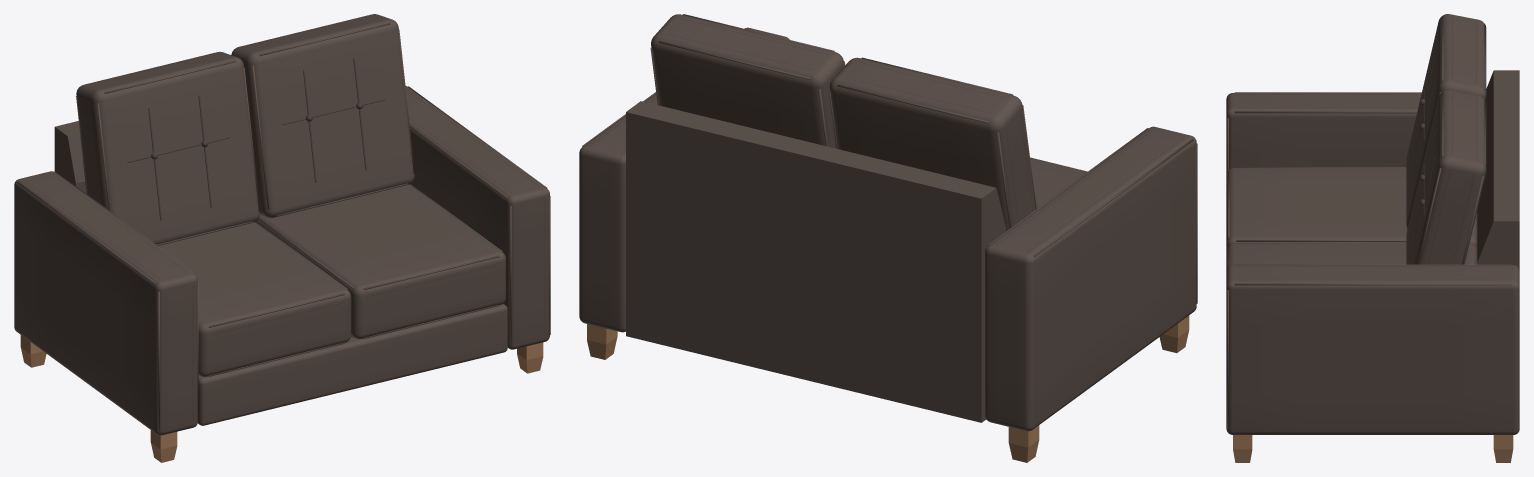
Rendered from benza_140x90.glb.
The picture shows the model from 3 angles, left to right: view 1: azimuth 30°, elevation 25°; view 2: azimuth 150°, elevation 25°; view 3: azimuth 270°, elevation 25°; orthographic projection. The views are drawn at different scales.
Visible parts, largest first — view 1: p1, p2, p0; view 2: p1, p0, p2; view 3: p1, p2, p0.
Part boxes in pixels (left/top/right/bottom): p1: left=14, top=14, right=550, bottom=435; p2: left=24, top=15, right=545, bottom=428; p0: left=20, top=335, right=543, bottom=462; p1: left=579, top=14, right=1197, bottom=431; p0: left=587, top=315, right=1189, bottom=462; p2: left=590, top=19, right=1183, bottom=252; p1: left=1226, top=14, right=1519, bottom=434; p2: left=1239, top=16, right=1510, bottom=279; p0: left=1233, top=435, right=1513, bottom=462.
Bounding box in the file's own units: 1.4 × 0.9642 × 0.9006.
Materials: 3 (2 with a texture image).
